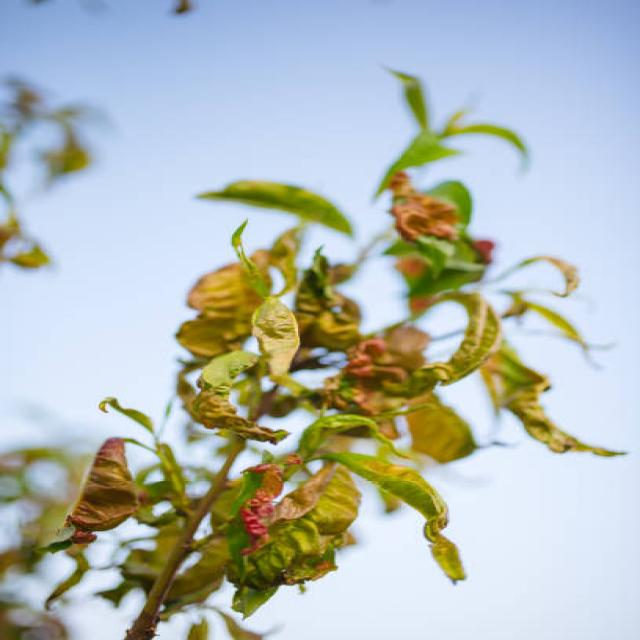peach_leaf_curl: (152, 264, 577, 573)
